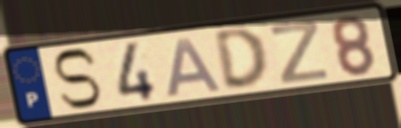4: (115, 38, 158, 104)
8: (328, 13, 379, 78)
A: (164, 35, 225, 99)
D: (211, 25, 271, 92)
S: (50, 47, 104, 112)
Z: (268, 18, 330, 86)
